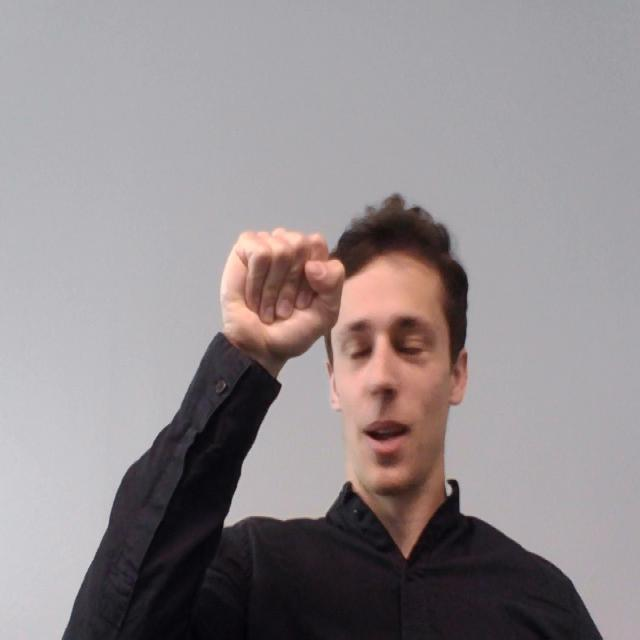stop: (217, 205, 348, 362)
